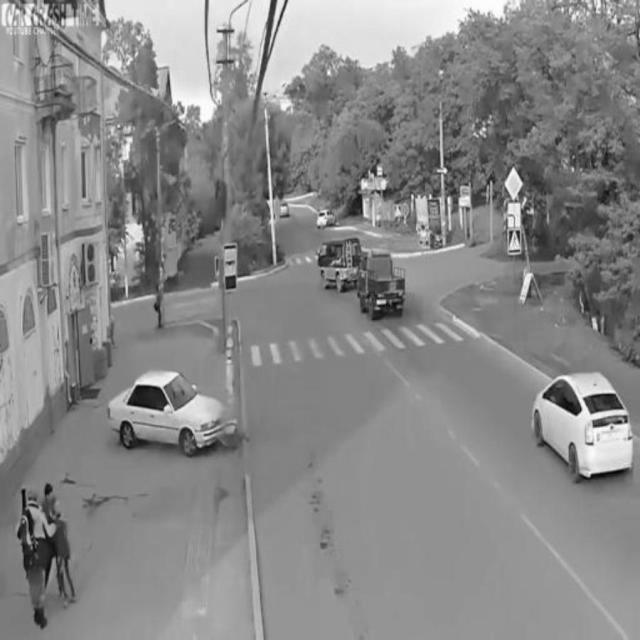accident: (109, 366, 243, 458)
person: (19, 487, 56, 628), (49, 495, 79, 603)
vehicle: (531, 369, 633, 479), (354, 245, 408, 321), (316, 237, 362, 294), (315, 209, 339, 229), (277, 197, 293, 221)
